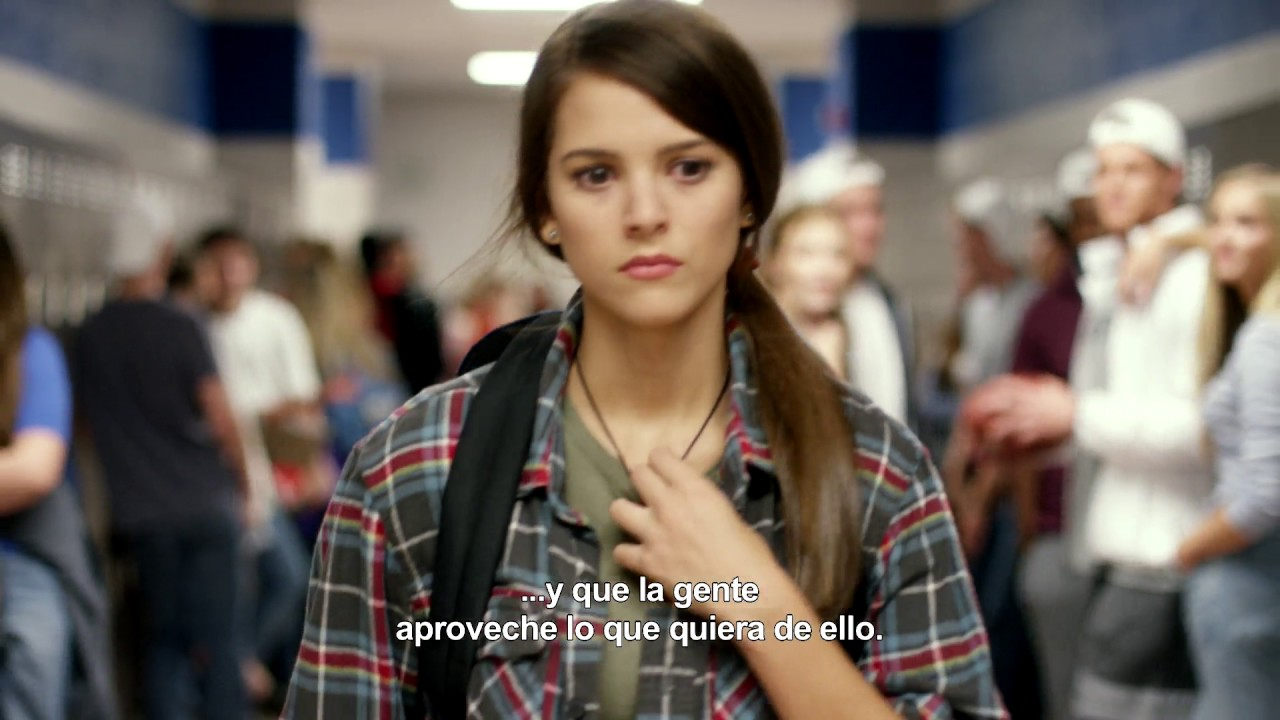person: (415, 15, 921, 602)
